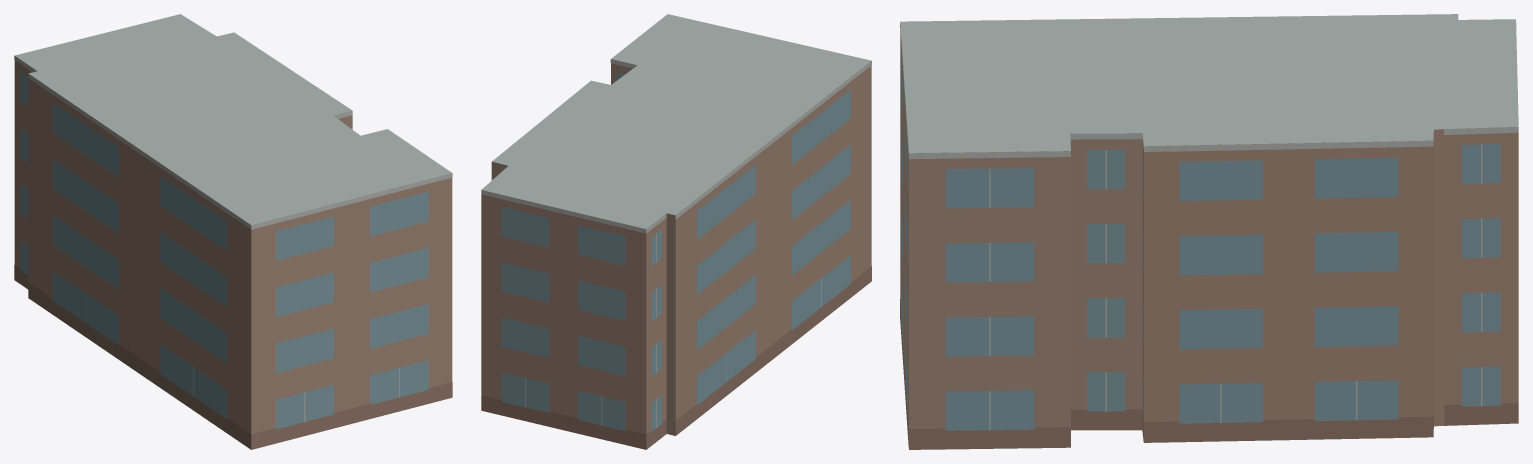
File: survey-upis-32665204.glb
The picture shows the model from 3 angles, left to right: view 1: azimuth 30°, elevation 25°; view 2: azimuth 150°, elevation 25°; view 3: azimuth 270°, elevation 25°; orthographic projection. The views are drawn at different scales.
Visible parts, largest first — view 1: survey-upis-32665204.tmp; view 2: survey-upis-32665204.tmp; view 3: survey-upis-32665204.tmp.
Boxes of the visible parts, x1,y1,x2,y2 form: survey-upis-32665204.tmp: [14, 14, 452, 449]; survey-upis-32665204.tmp: [481, 14, 871, 449]; survey-upis-32665204.tmp: [900, 14, 1518, 449].
Size of the model in its own units: 12.29 by 12.2 by 23.07.
